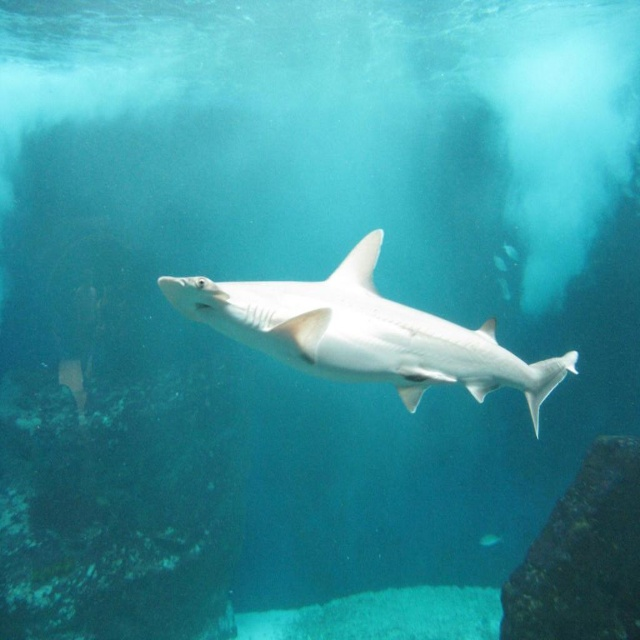Fish: (158, 230, 579, 439)
